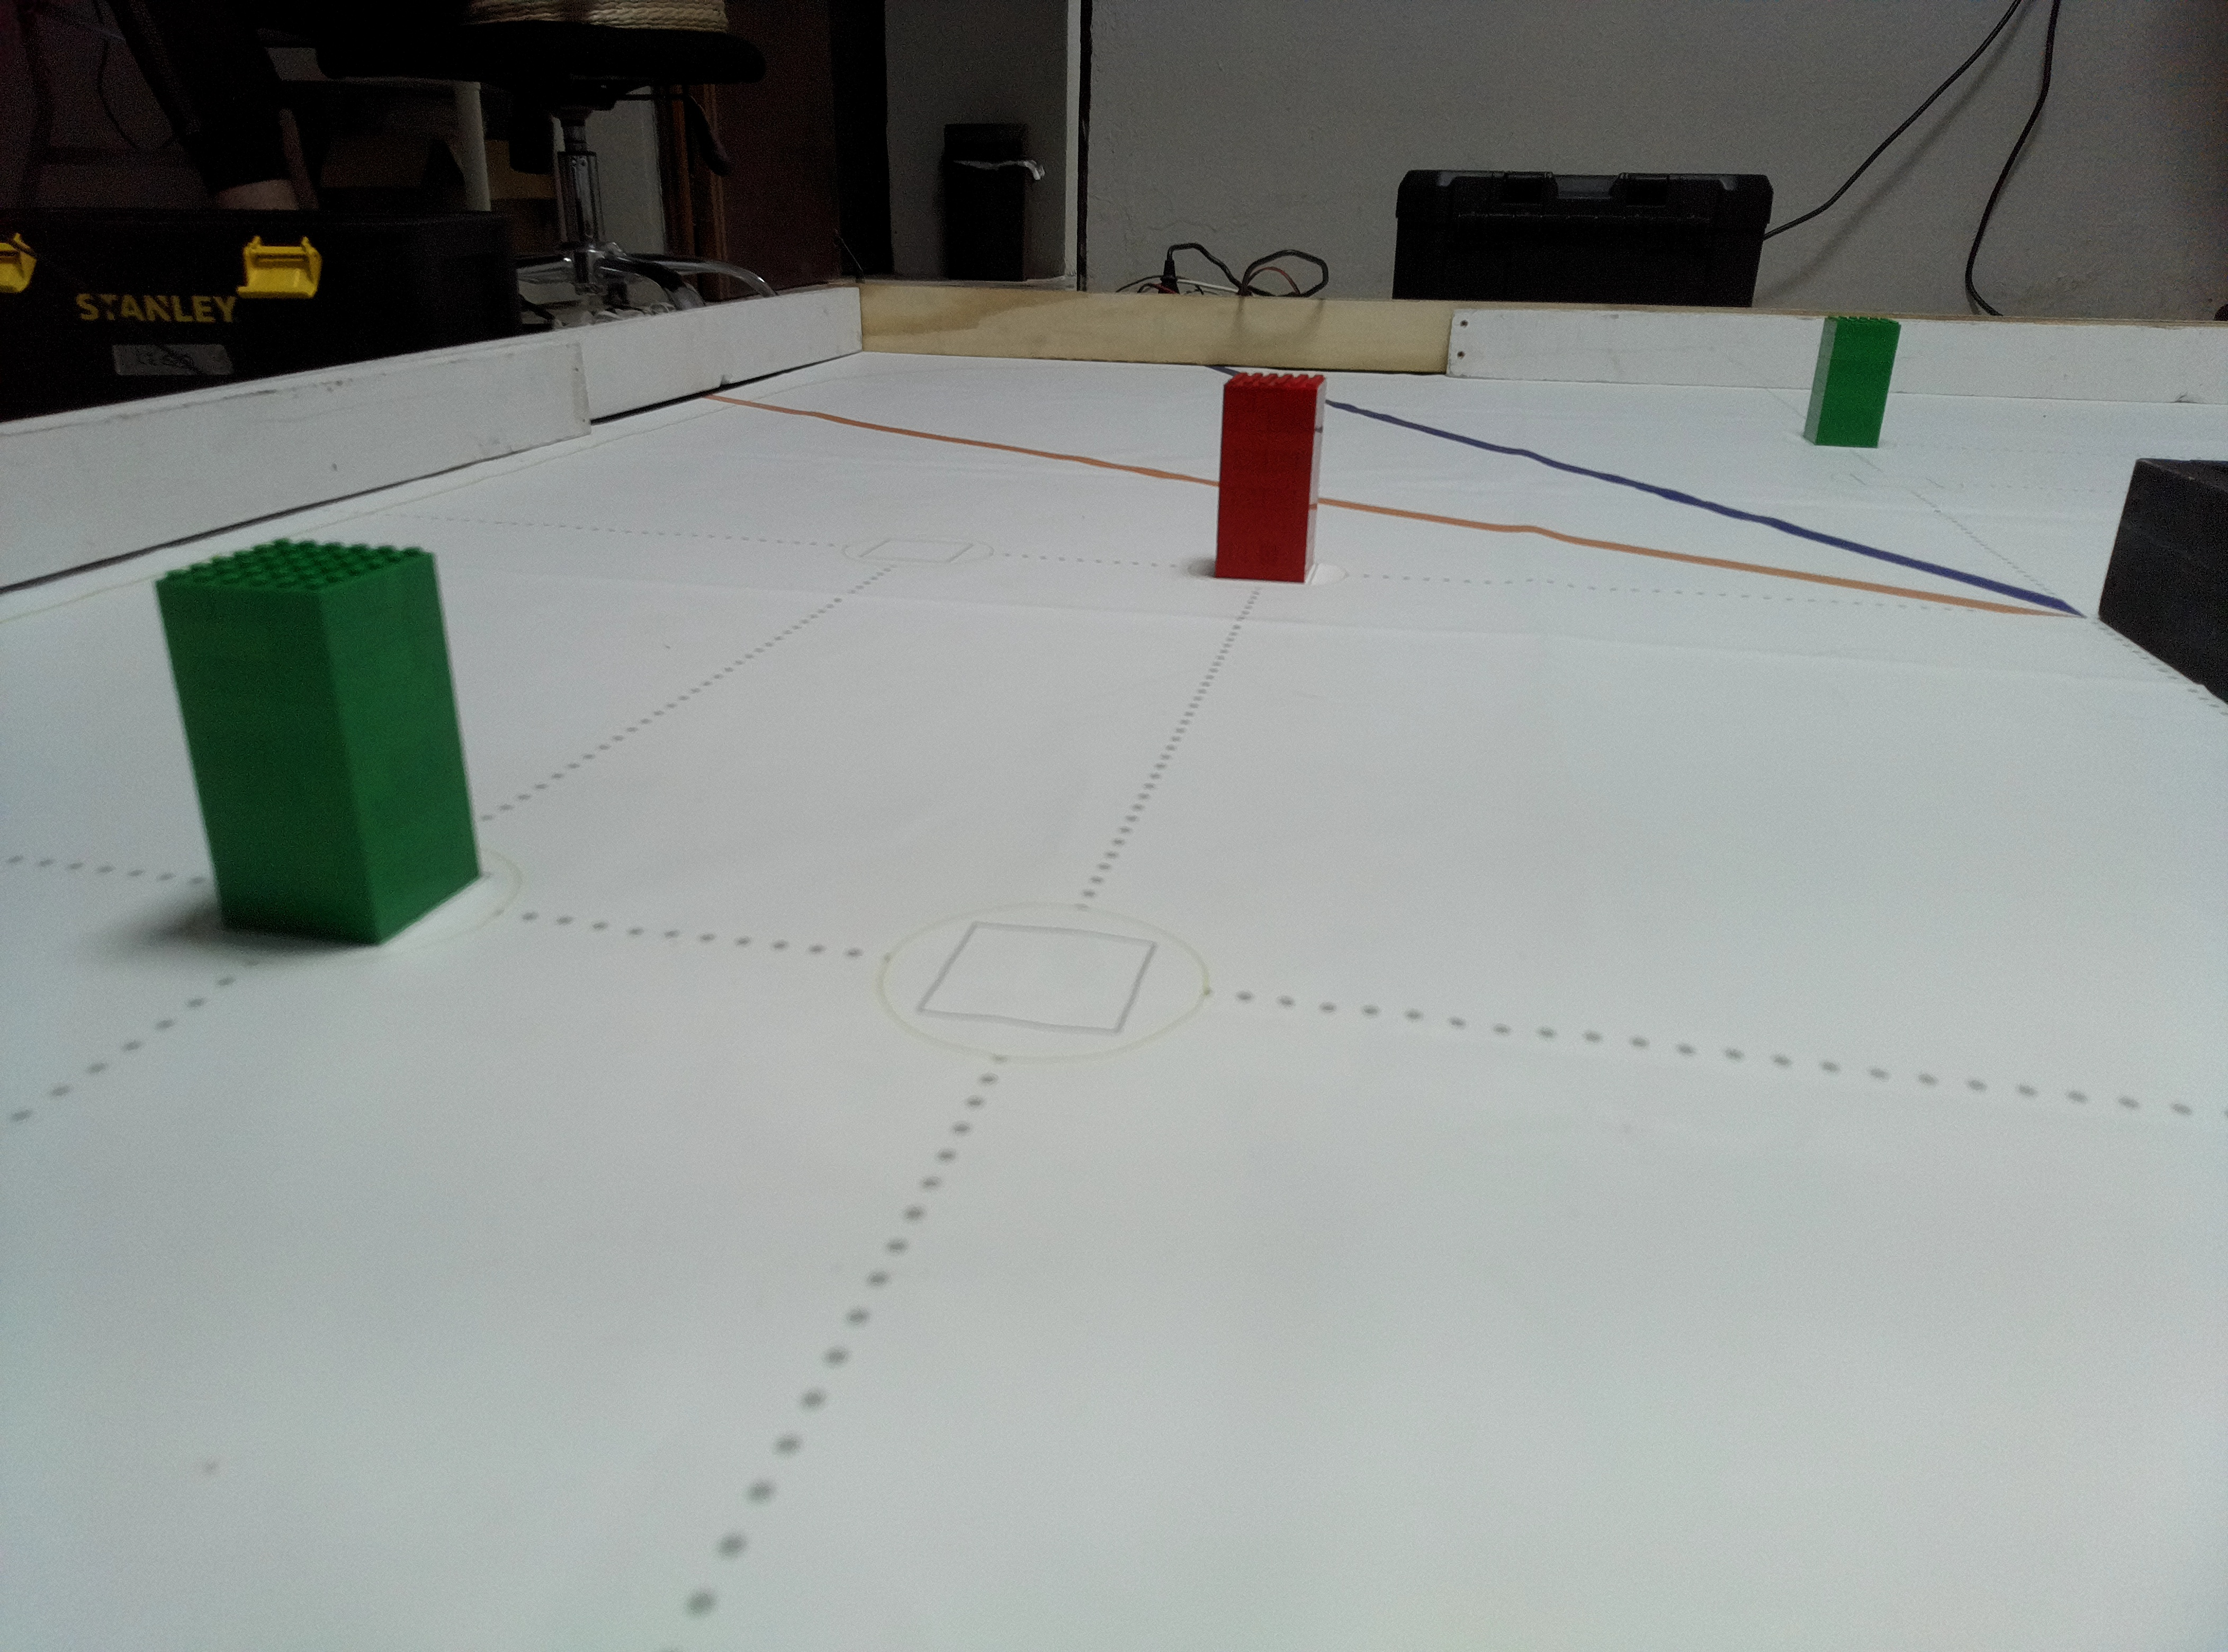greenbox: (149, 536, 488, 953), (1801, 316, 1902, 449)
redbox: (1215, 373, 1324, 585)
